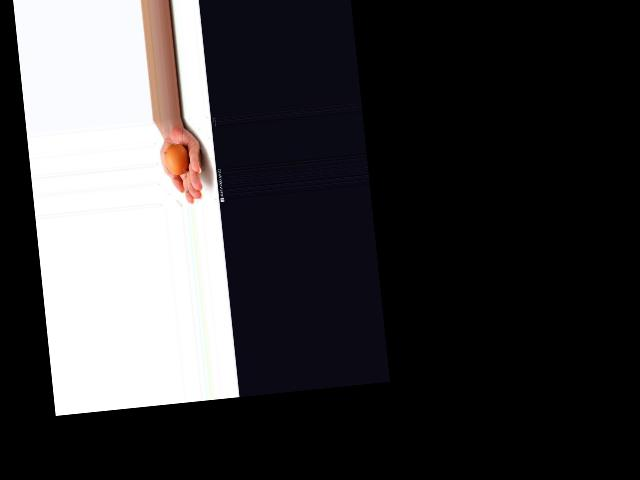egg: (162, 142, 190, 175)
